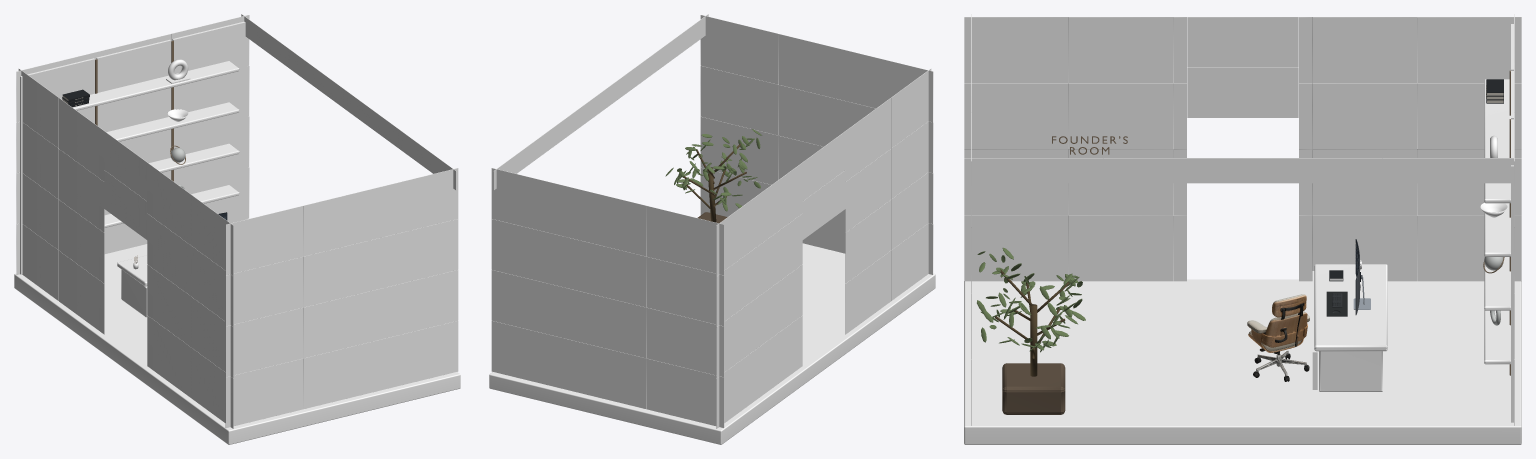
Rendered from founder.f8fb92e48bd2.glb.
3 views of the same model, side by side, from view 1: azimuth 30°, elevation 25°; view 2: azimuth 150°, elevation 25°; view 3: azimuth 270°, elevation 25° (orthographic). The views are drawn at different scales.
Visible parts, largest first — view 1: WEB_V3_DESK_JOURNAL_pages, WEB_DESK_FOUNDER_01, WEB_SLAB_FOUNDER, WEB_FOUNDER_ROOM_SIGN; view 2: WEB_V3_DESK_JOURNAL_pages, WEB_SLAB_FOUNDER, WEB_FOUNDER_OLIVE_leaf0_0, WEB_FOUNDER_OLIVE_branch0; view 3: WEB_V3_DESK_JOURNAL_pages, WEB_SLAB_FOUNDER, WEB_DESK_FOUNDER_01, WEB_FOUNDER_OLIVE_planter, WEB_V04_FOUNDER_CHAIR, WEB_FOUNDER_OLIVE_leaf0_0, WEB_FOUNDER_OLIVE_branch0, WEB_FOUNDER_ROOM_SIGN.
Boxes of the visible parts, <box> form: WEB_V3_DESK_JOURNAL_pages: <box>16,14,458,428</box>; WEB_DESK_FOUNDER_01: <box>20,21,247,317</box>; WEB_SLAB_FOUNDER: <box>14,244,460,444</box>; WEB_FOUNDER_ROOM_SIGN: <box>95,40,185,263</box>; WEB_V3_DESK_JOURNAL_pages: <box>491,14,933,428</box>; WEB_SLAB_FOUNDER: <box>489,243,935,444</box>; WEB_FOUNDER_OLIVE_leaf0_0: <box>665,129,761,211</box>; WEB_FOUNDER_OLIVE_branch0: <box>683,143,746,222</box>; WEB_V3_DESK_JOURNAL_pages: <box>964,14,1521,425</box>; WEB_SLAB_FOUNDER: <box>964,260,1521,444</box>; WEB_DESK_FOUNDER_01: <box>1312,24,1513,422</box>; WEB_FOUNDER_OLIVE_planter: <box>1002,363,1065,414</box>; WEB_V04_FOUNDER_CHAIR: <box>1247,294,1309,381</box>; WEB_FOUNDER_OLIVE_leaf0_0: <box>977,247,1085,352</box>; WEB_FOUNDER_OLIVE_branch0: <box>995,269,1069,376</box>; WEB_FOUNDER_ROOM_SIGN: <box>1052,70,1510,375</box>.
Size of the model in its own units: 5 by 4.5 by 8.
Materials: 21 (2 with a texture image).
